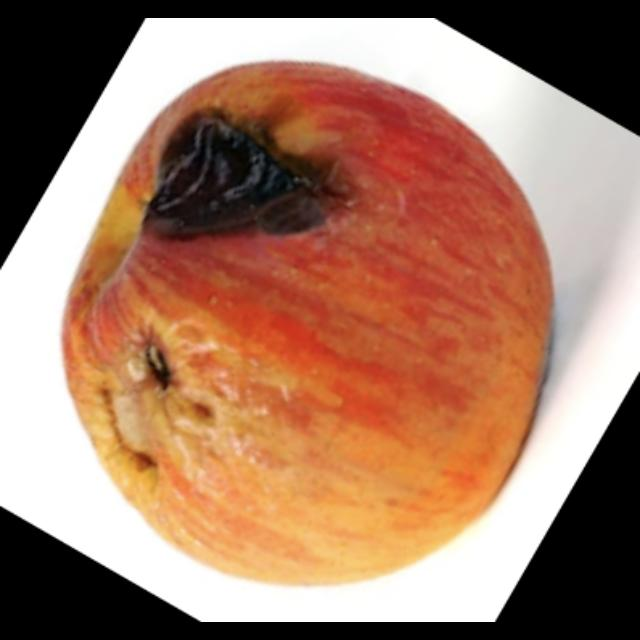Apel Tidak Segar: (61, 68, 568, 587)
